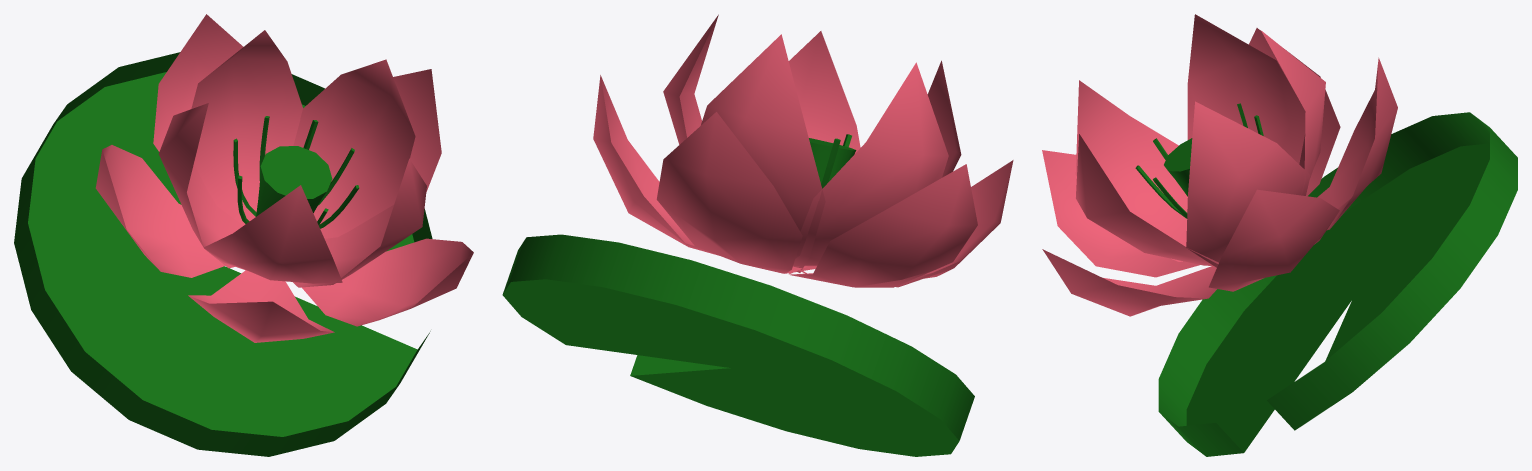
File: hasu_l.fbx
3 views of the same model, side by side, from view 1: azimuth 30°, elevation 25°; view 2: azimuth 150°, elevation 25°; view 3: azimuth 270°, elevation 25° (orthographic). The views are drawn at different scales.
Visible parts, largest first — view 1: オブジェクト001, Cylinder001, Cylinder002; view 2: オブジェクト001, Cylinder001, Cylinder002; view 3: オブジェクト001, Cylinder001, Cylinder002.
Part boxes in pixels (box(x1,y1,x2,y2)): オブジェクト001: box(95, 14, 473, 342); Cylinder001: box(14, 52, 432, 456); Cylinder002: box(233, 116, 359, 228); オブジェクト001: box(593, 14, 1013, 287); Cylinder001: box(502, 234, 974, 456); Cylinder002: box(809, 134, 856, 188); オブジェクト001: box(1042, 14, 1397, 316); Cylinder001: box(1158, 112, 1517, 456); Cylinder002: box(1135, 103, 1263, 218).
Size of the model in its own units: 141 by 140 by 152.
